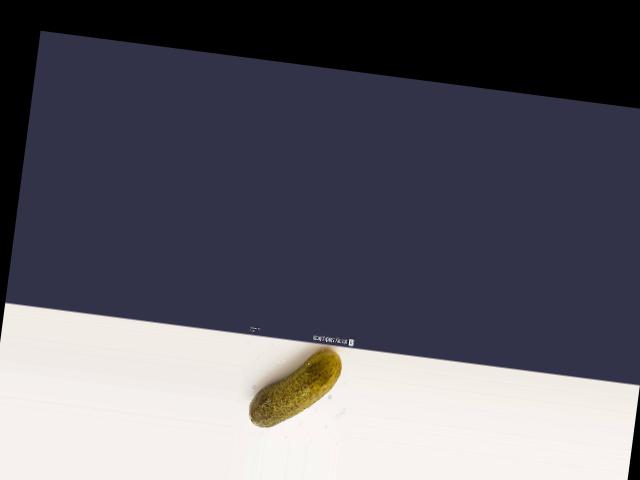cucumber: (246, 340, 343, 435)
